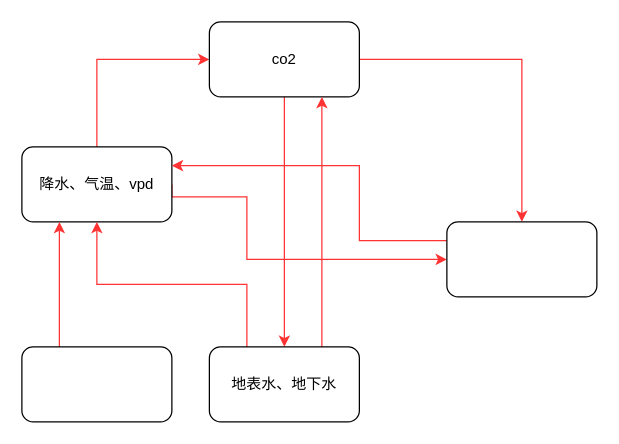
Image size: 619x444. Some labels were removed from this diagram. Each missing label, with the box of its shape:
农机、化肥、用电: (446, 221, 597, 297)
粮食、水果、播种面积: (21, 346, 172, 422)
